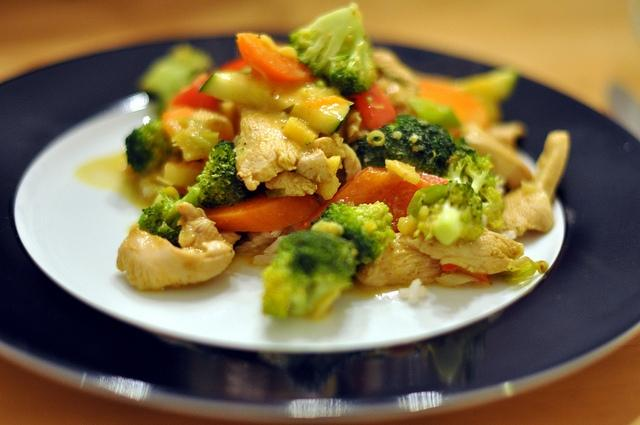broccoli: (262, 229, 358, 322), (290, 3, 378, 96), (350, 114, 457, 176), (138, 42, 216, 122), (324, 200, 396, 266), (412, 180, 483, 246), (197, 139, 250, 208), (142, 188, 200, 248), (124, 120, 180, 174), (408, 98, 462, 128), (464, 153, 502, 194)
carrot: (296, 167, 448, 233), (204, 192, 318, 232), (236, 32, 316, 84), (170, 59, 246, 112), (417, 81, 489, 130), (344, 81, 398, 130), (161, 107, 234, 142), (442, 264, 491, 284)
